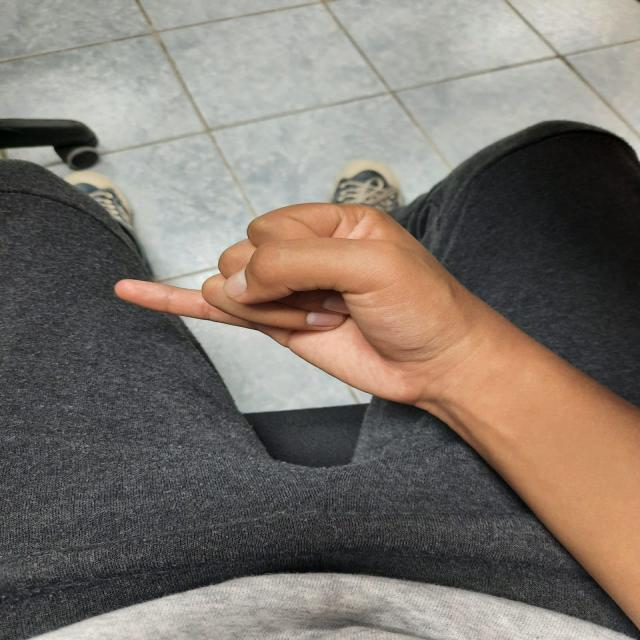Z: (90, 186, 525, 432)
